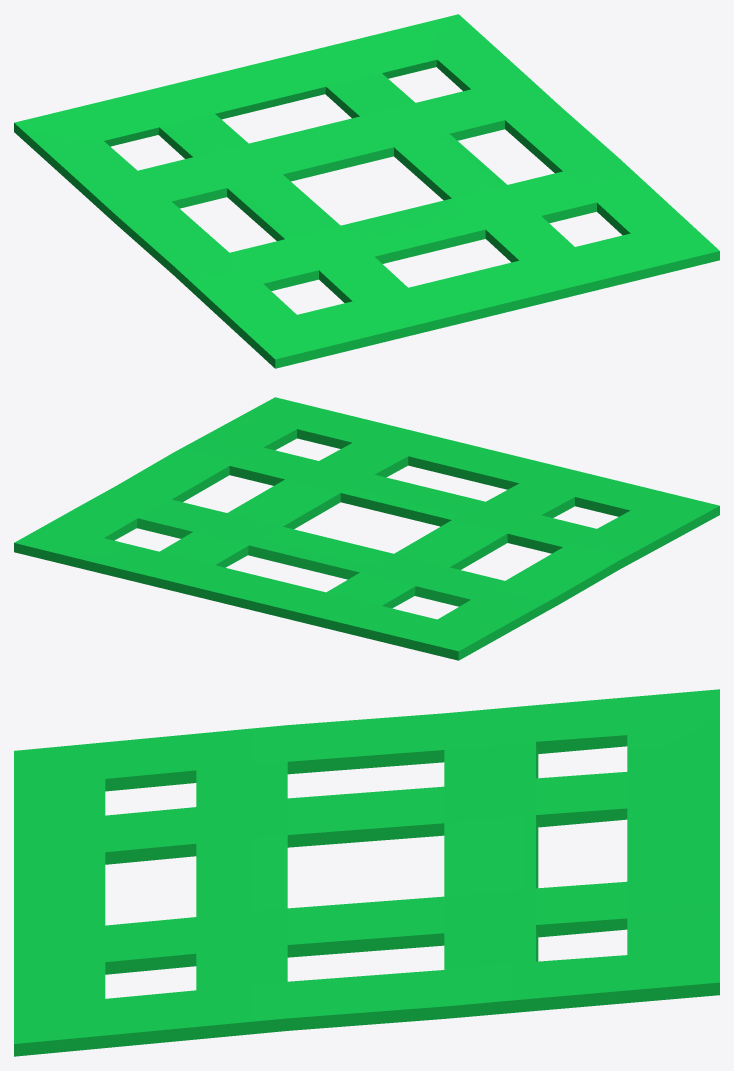
Rendered from Industry_Roof_low.fbx.
The picture shows the model from 3 angles, top to bottom: view 1: azimuth 30°, elevation 25°; view 2: azimuth 150°, elevation 25°; view 3: azimuth 270°, elevation 25°; orthographic projection. The views are drawn at different scales.
Parts seen in each view (by area): view 1: Industry_Roof_low; view 2: Industry_Roof_low; view 3: Industry_Roof_low.
Part boxes in pixels (x1,y1,x2,y2): Industry_Roof_low: [14, 14, 719, 368]; Industry_Roof_low: [14, 397, 719, 660]; Industry_Roof_low: [14, 689, 719, 1056].
Bounding box in the file's own units: 5000 × 590 × 5087.
